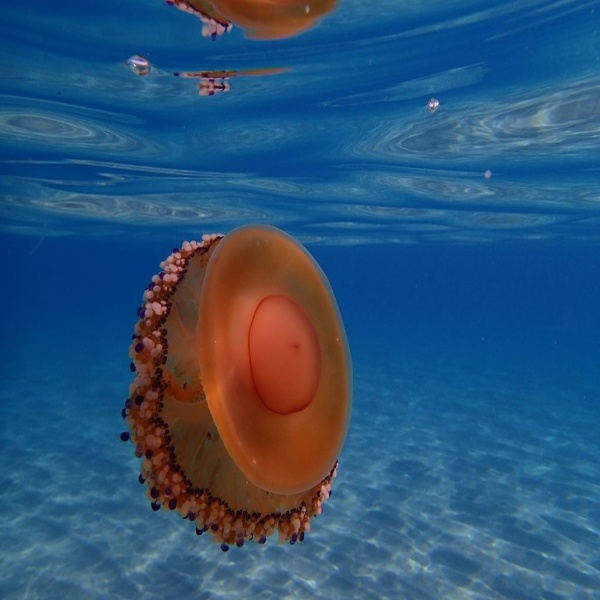Jellyfish: (114, 206, 366, 564)
